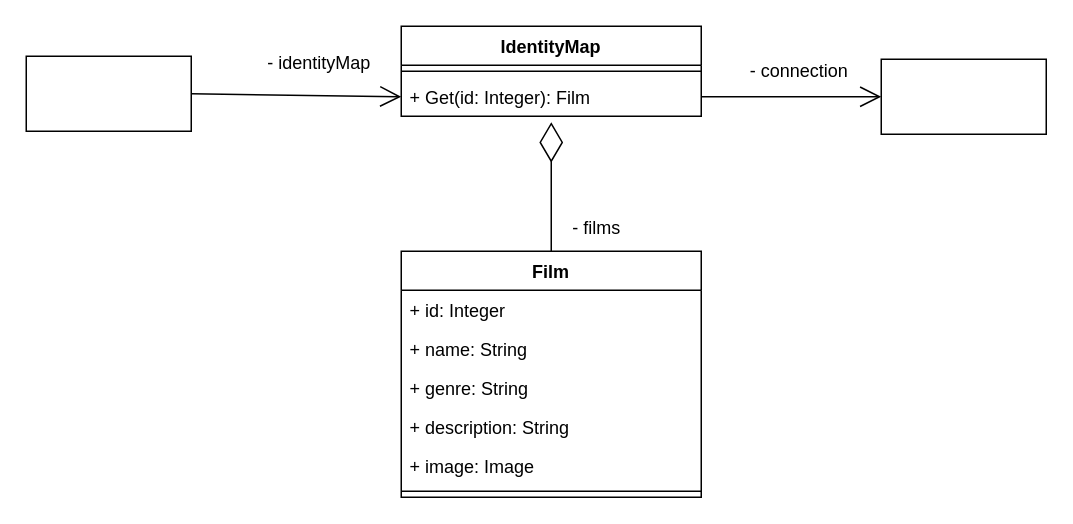
The diagram is 1073 pixels wide and 524 high, and some of its shapes have lost their labels. The shapes that lost their labels are listed below. From the top down, each one's centre as x and y in pixels, then its label:
the point at 108,93: Form1
the point at 963,96: SQLiteConnection
